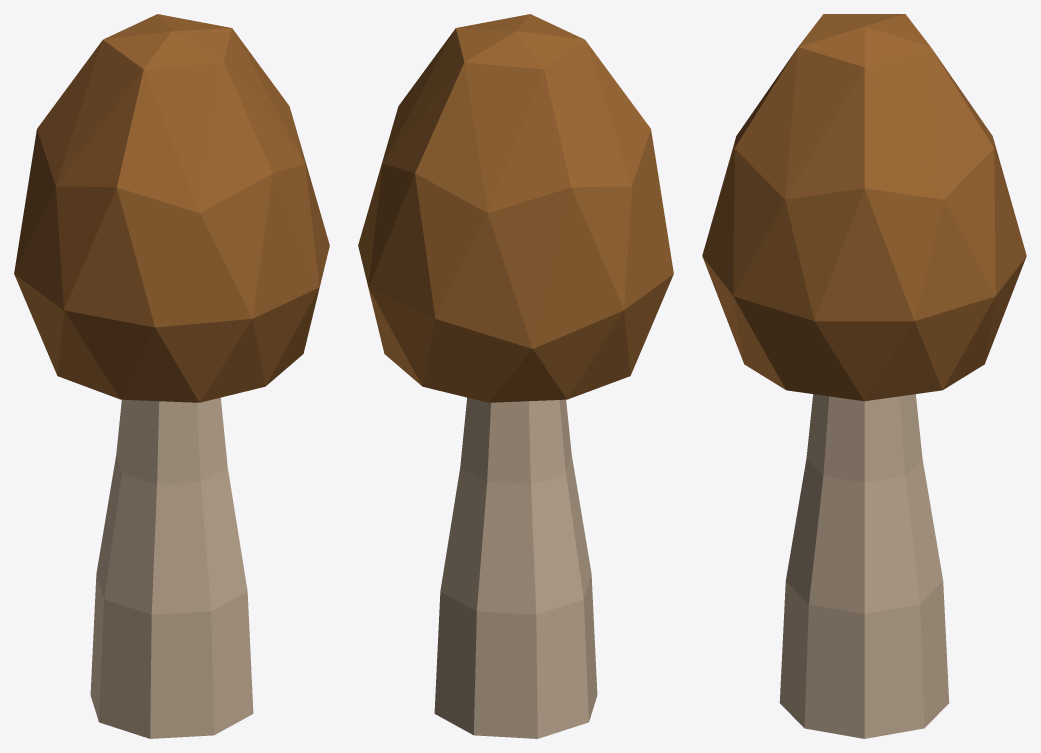
Rendered from mushroom_05.glb.
3 renders of one model, left to right at view 1: azimuth 30°, elevation 25°; view 2: azimuth 150°, elevation 25°; view 3: azimuth 270°, elevation 25°, orthographic.
Parts seen in each view (by area): view 1: Object_130, Object_131; view 2: Object_130, Object_131; view 3: Object_130, Object_131.
Boxes of the visible parts, x1,y1,x2,y2 form: Object_130: (14,14,329,402); Object_131: (90,397,253,738); Object_130: (358,14,673,402); Object_131: (434,397,597,738); Object_130: (702,14,1026,401); Object_131: (779,394,949,738).
Bounding box in the file's own units: 0.6474 × 1.57 × 0.6807.
